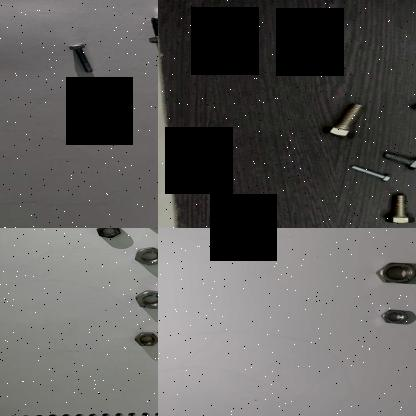Bolts: (321, 100, 370, 142), (380, 192, 416, 225), (65, 41, 95, 75), (346, 163, 396, 182), (379, 151, 416, 170), (143, 14, 158, 44), (407, 95, 416, 125)
NUTS: (374, 261, 416, 285), (133, 289, 158, 309), (134, 245, 158, 265), (382, 308, 412, 324), (131, 330, 158, 346), (92, 228, 122, 240)
